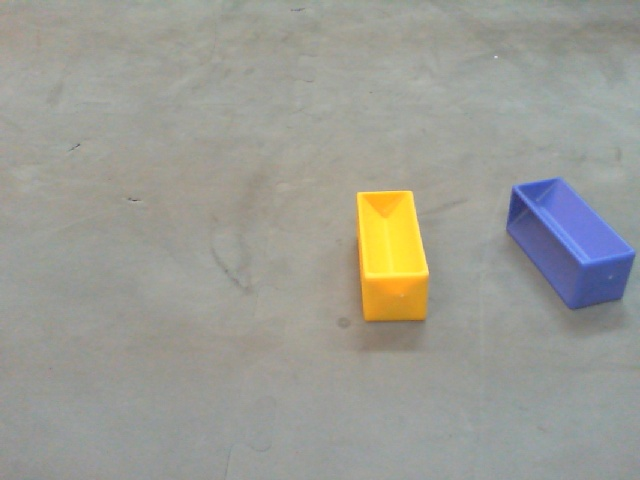BlueSample: (504, 178, 636, 312)
YellowSample: (355, 188, 430, 321)
